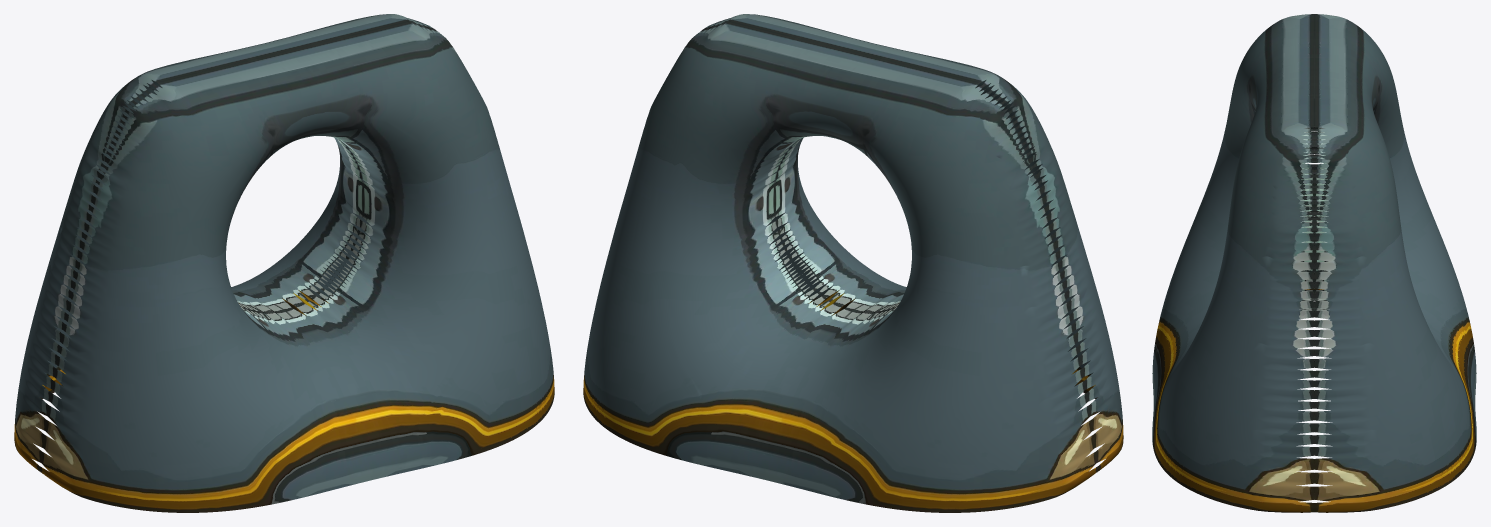
Rendered from rear_window_wall.glb.
3 renders of one model, left to right at view 1: azimuth 30°, elevation 25°; view 2: azimuth 150°, elevation 25°; view 3: azimuth 270°, elevation 25°, orthographic. The views are drawn at different scales.
Parts seen in each view (by area): view 1: rear_window_wall; view 2: rear_window_wall; view 3: rear_window_wall.
Part boxes in pixels (left/top/right/bottom): rear_window_wall: left=14, top=14, right=554, bottom=512; rear_window_wall: left=583, top=14, right=1123, bottom=512; rear_window_wall: left=1152, top=14, right=1476, bottom=512.
Bounding box in the file's own units: 0.9889 × 0.7035 × 0.6191.
1 material, 1 textured.
